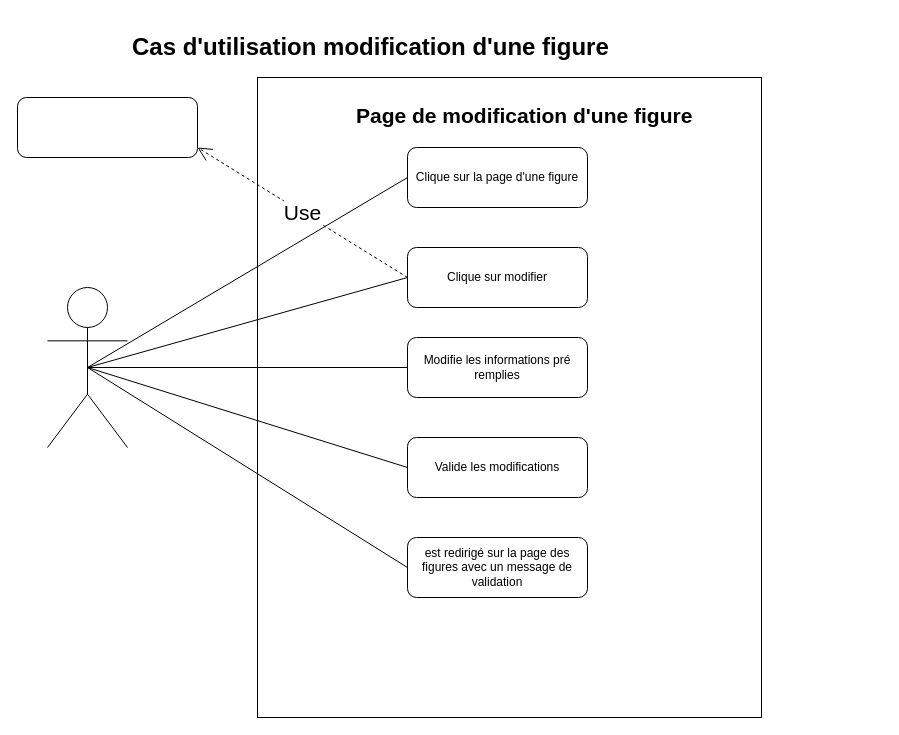
Image size: 899x735. Some labels were removed from this diagram. Here are the shapes that lost their labels. From the top down, the centre of each, then its label:
(107,127): Se connecte sur la page connexion
(87,367): User
